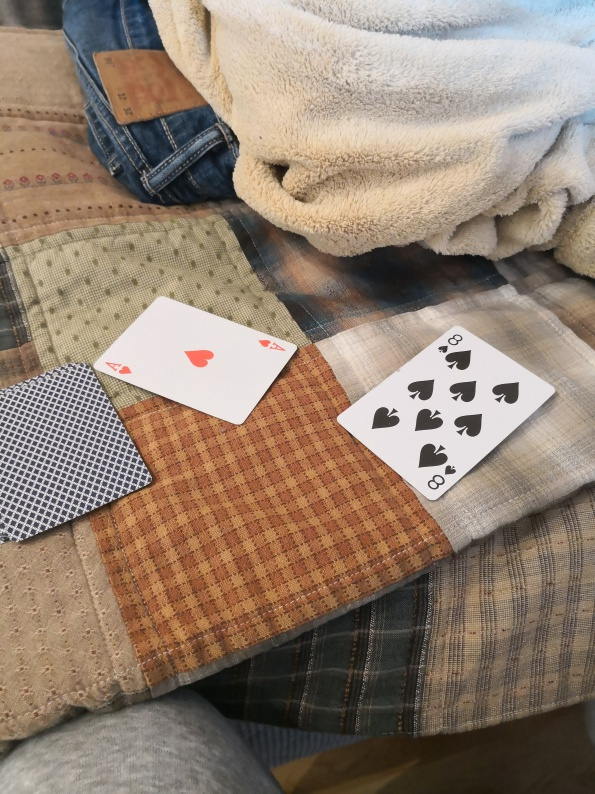8: (334, 324, 558, 503)
ace: (89, 293, 300, 427)
